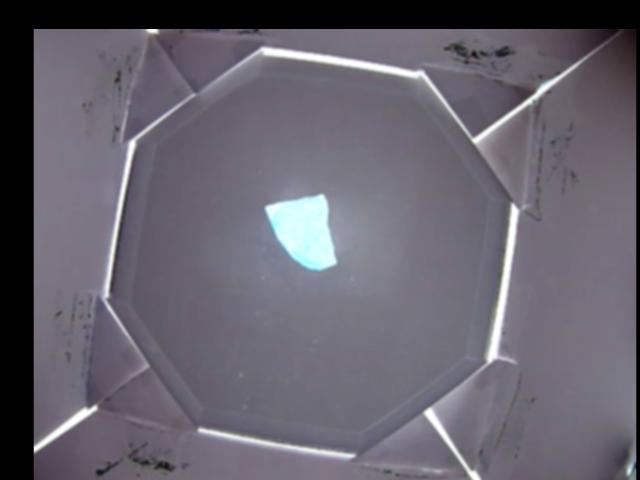Brisk: (262, 192, 336, 269)
